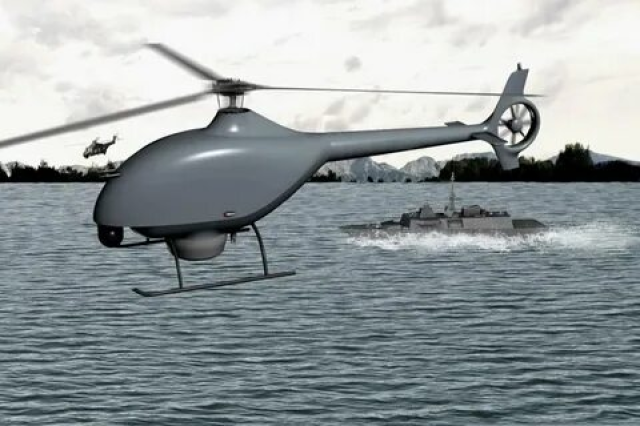military drone: (0, 42, 546, 296)
